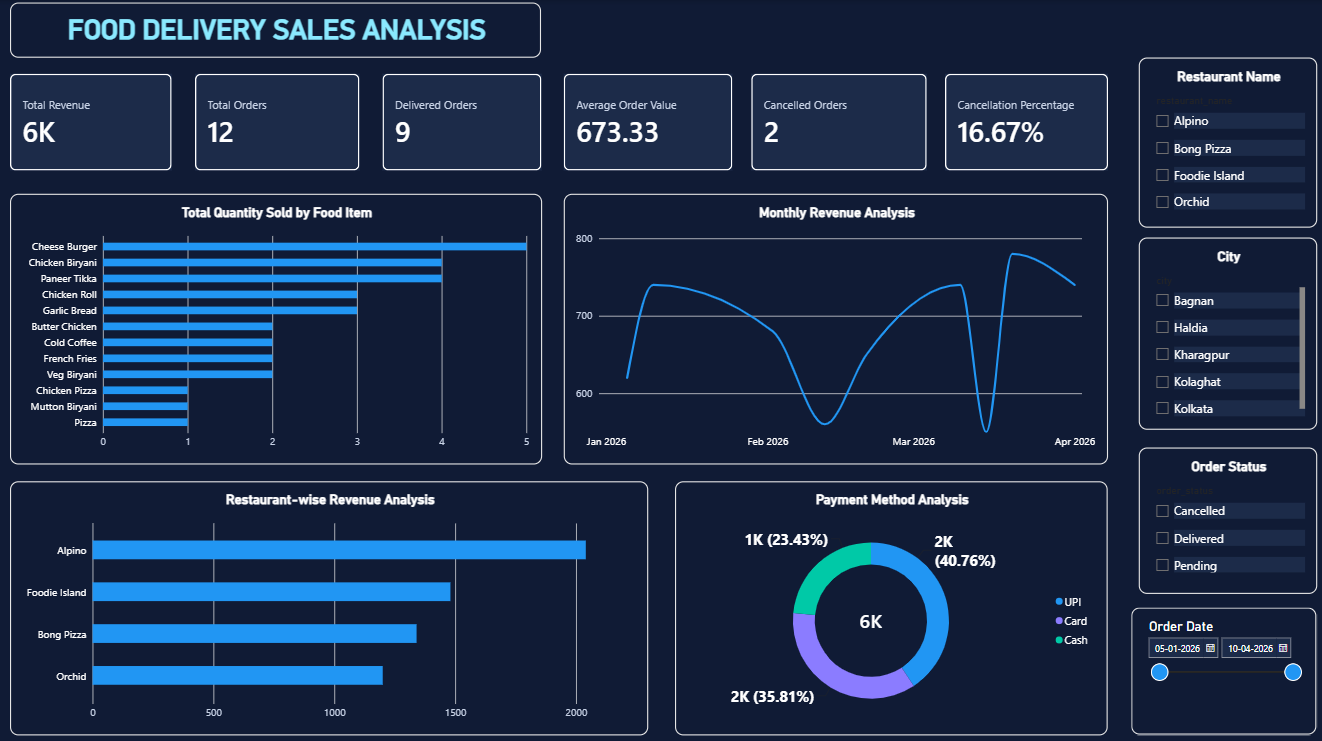

What the dashboard file says about the page in this screenshot:
{"tool":"powerbi","page":{"name":"Page 1","canvas":[1920,1080],"ordinal":0},"visuals":[{"type":"cardVisual","fields":{"Data":["customers.Total Orders"]},"box":[282,106,238,140],"z":1000},{"type":"cardVisual","fields":{"Data":["customers.Total Revenue"]},"box":[14,106,234,140],"z":2000},{"type":"cardVisual","fields":{"Data":["customers.Delivered Orders"]},"box":[554,106,230,140],"z":3000},{"type":"cardVisual","fields":{"Data":["customers.Cancelled Orders"]},"box":[1088,106,254,140],"z":4000},{"type":"cardVisual","fields":{"Data":["customers.Cancellation Percentage"]},"box":[1368,106,236,140],"z":5000},{"type":"cardVisual","fields":{"Data":["customers.Average Order Value"]},"box":[816,106,244,140],"z":6000},{"type":"clusteredBarChart","title":"Restaurant-wise Revenue Analysis","fields":{"Category":["restaurants.restaurant_name"],"Y":["customers.Total Revenue"]},"box":[14,696,924,368],"z":7000},{"type":"lineChart","title":"Monthly Revenue Analysis","fields":{"Category":["orders.order_date"],"Y":["customers.Total Revenue"]},"box":[816,280,788,392],"z":8000},{"type":"clusteredBarChart","title":"Total Quantity Sold by Food Item","fields":{"Category":["food_items.item_name"],"Y":["customers.Total Quantity Sold"]},"box":[14,280,770,392],"z":9000},{"type":"donutChart","title":"Payment Method Analysis","fields":{"Category":["payments.payment_method"],"Series":["payments.payment_status"],"Y":["Sum(payments.amount)"]},"box":[978,696,626,368],"z":10000},{"type":"slicer","title":"Restaurant Name","fields":{"Values":["restaurants.restaurant_name"]},"box":[1648,84,258,246],"z":11000},{"type":"slicer","title":"Order Date","fields":{"Values":["orders.order_date"]},"box":[1638,880,268,184],"z":12000},{"type":"slicer","title":"City","fields":{"Values":["customers.city"]},"box":[1648,344,258,278],"z":13000},{"type":"slicer","title":"Order Status","fields":{"Values":["orders.order_status"]},"box":[1648,648,258,212],"z":14000},{"type":"textbox","title":"FOOD DELIVERY SALES ANALYSIS","box":[14.5,3.6,769.1,79.6],"z":15000}]}

Visuals, with their boxes in screenshot pixels (x1, y1, x2, y2), scaled from the page's 1920x1080 canvas onto the 1322x741 screenshot:
cardVisual - customers.Total Orders: {"left": 194, "top": 73, "right": 358, "bottom": 169}
cardVisual - customers.Total Revenue: {"left": 10, "top": 73, "right": 171, "bottom": 169}
cardVisual - customers.Delivered Orders: {"left": 381, "top": 73, "right": 540, "bottom": 169}
cardVisual - customers.Cancelled Orders: {"left": 749, "top": 73, "right": 924, "bottom": 169}
cardVisual - customers.Cancellation Percentage: {"left": 942, "top": 73, "right": 1104, "bottom": 169}
cardVisual - customers.Average Order Value: {"left": 562, "top": 73, "right": 730, "bottom": 169}
"Restaurant-wise Revenue Analysis" clusteredBarChart: {"left": 10, "top": 478, "right": 646, "bottom": 730}
"Monthly Revenue Analysis" lineChart: {"left": 562, "top": 192, "right": 1104, "bottom": 461}
"Total Quantity Sold by Food Item" clusteredBarChart: {"left": 10, "top": 192, "right": 540, "bottom": 461}
"Payment Method Analysis" donutChart: {"left": 673, "top": 478, "right": 1104, "bottom": 730}
"Restaurant Name" slicer: {"left": 1135, "top": 58, "right": 1312, "bottom": 226}
"Order Date" slicer: {"left": 1128, "top": 604, "right": 1312, "bottom": 730}
"City" slicer: {"left": 1135, "top": 236, "right": 1312, "bottom": 427}
"Order Status" slicer: {"left": 1135, "top": 445, "right": 1312, "bottom": 590}
"FOOD DELIVERY SALES ANALYSIS" textbox: {"left": 10, "top": 2, "right": 540, "bottom": 57}
